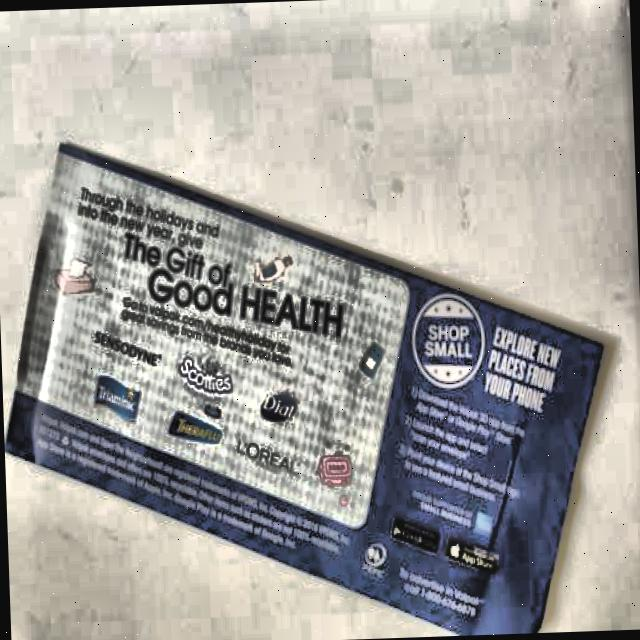paper: (0, 116, 618, 640)
